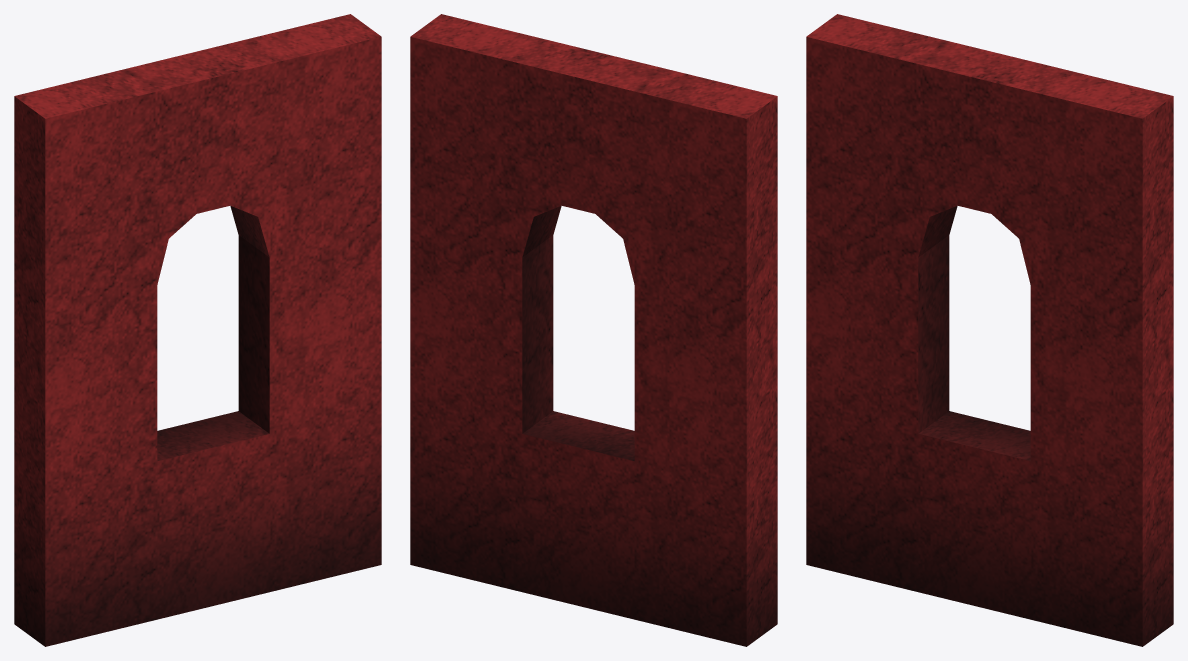
Rendered from window.fbx.
3 views of the same model, side by side, from view 1: azimuth 30°, elevation 25°; view 2: azimuth 150°, elevation 25°; view 3: azimuth 330°, elevation 25° (orthographic).
Visible parts, largest first — view 1: Standard_window; view 2: Standard_window; view 3: Standard_window.
Boxes of the visible parts, x1,y1,x2,y2 form: Standard_window: [14, 14, 381, 646]; Standard_window: [410, 14, 777, 646]; Standard_window: [806, 14, 1173, 646].
Bounding box in the file's own units: 200 × 300 × 32.
